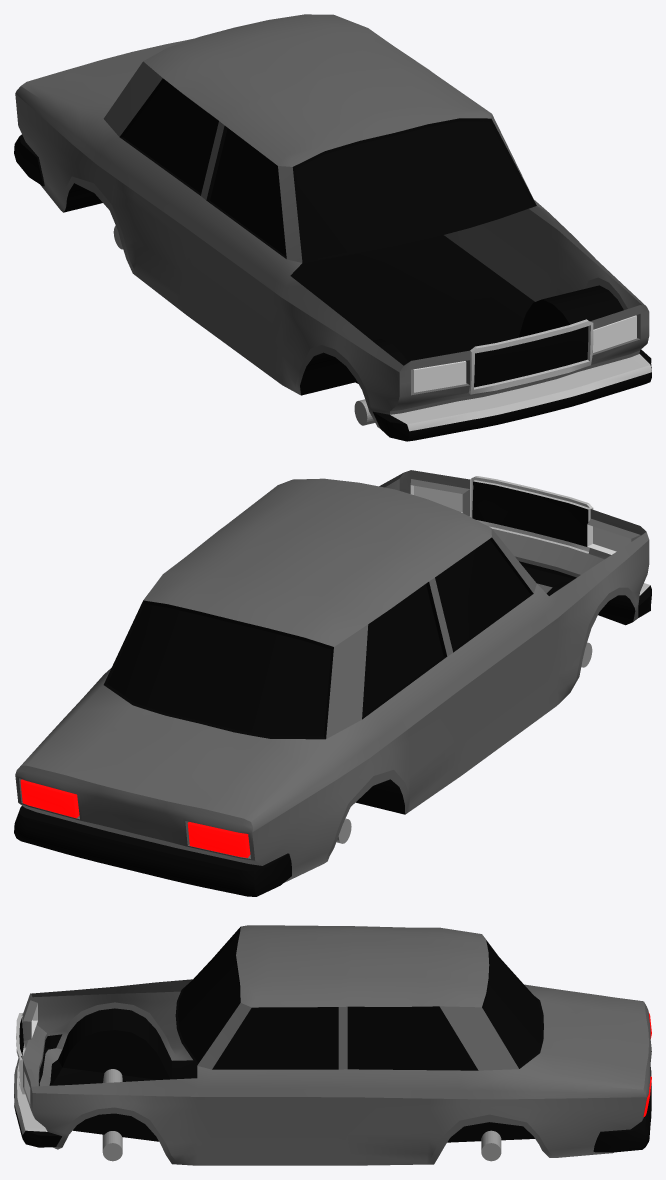
The model's file is carro_cuerpo.fbx.
3 views of the same model, one above another, from view 1: azimuth 30°, elevation 25°; view 2: azimuth 150°, elevation 25°; view 3: azimuth 270°, elevation 25° (orthographic). The views are drawn at different scales.
Visible parts, largest first — view 1: 2107.002; view 2: 2107.002; view 3: 2107.002.
Boxes of the visible parts, x1=… form: 2107.002: x1=14, y1=14, x2=651, y2=441; 2107.002: x1=14, y1=470, x2=651, y2=896; 2107.002: x1=14, y1=925, x2=651, y2=1165.
Bounding box in the file's own units: 164 × 117 × 408.
